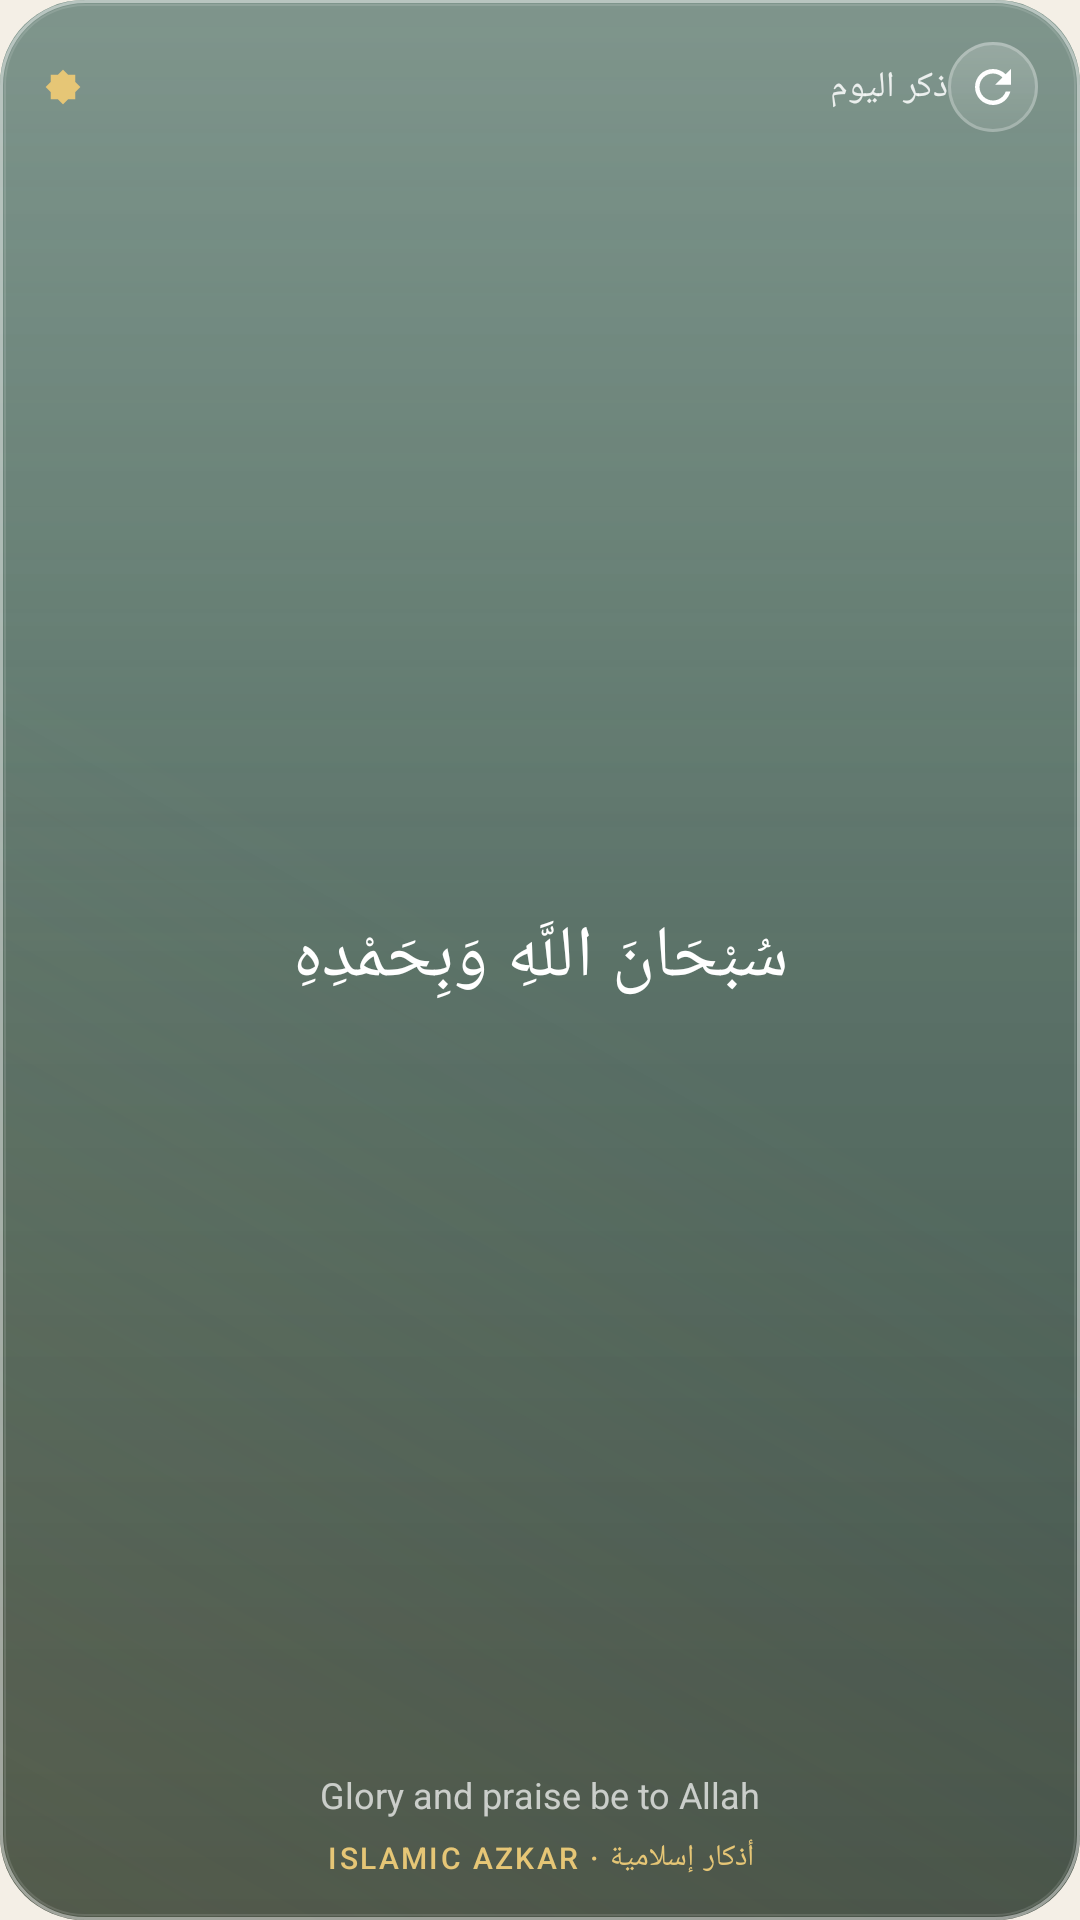

Where icons sit on this 1080×1920 app screen, as (x1, y1, x2, y2):
star gold: (46, 70, 80, 104)
